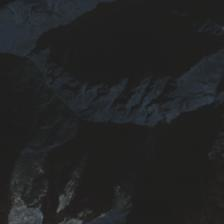landslides: (147, 136, 158, 147)
